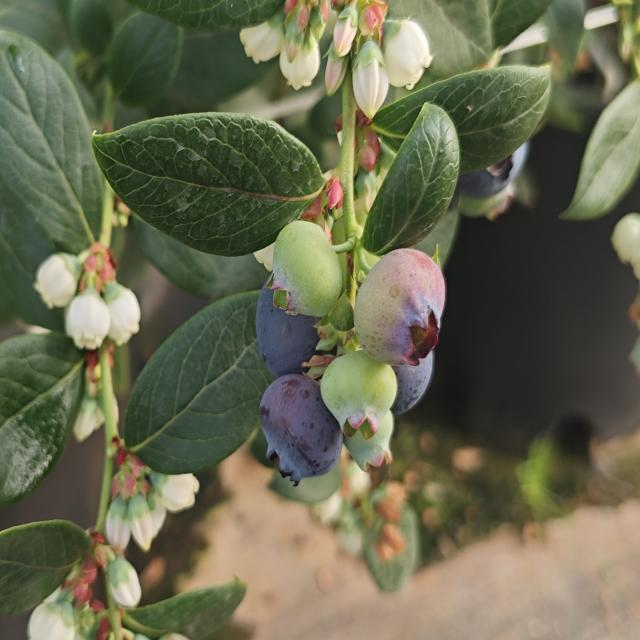ripe: (238, 262, 322, 384), (247, 376, 336, 479), (452, 128, 530, 204), (393, 354, 442, 416)
